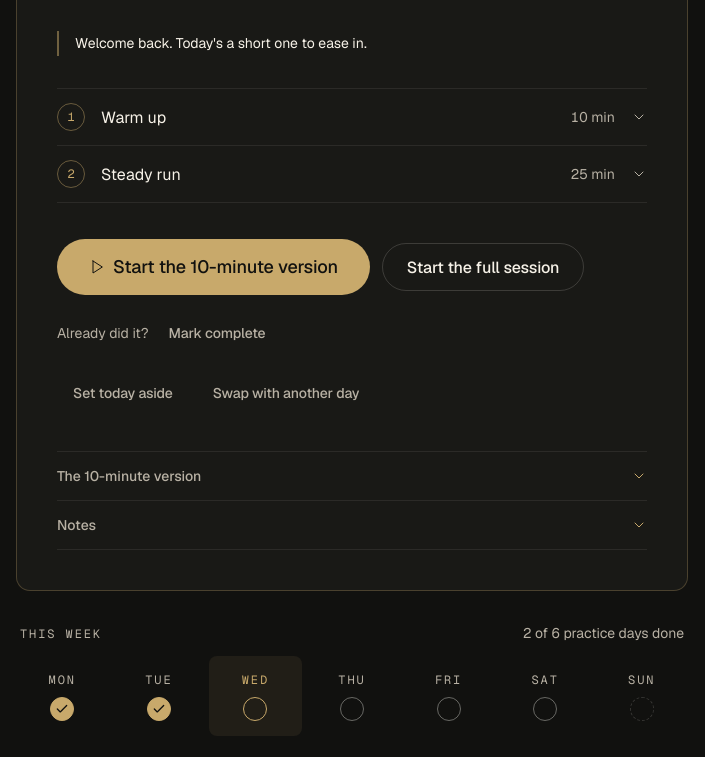
Scenario: Today › short on time and gentle return (missed sessions M3.2) › gentle return belongs to today only, not to another selected day
(page scrolled)
Expected: the button "Start the 10-minute version" is shown, left=57, top=240, right=370, bottom=296
Click the button "Tue" at (159,696), box left=113, top=656, right=205, bottom=736
(page scrolled)
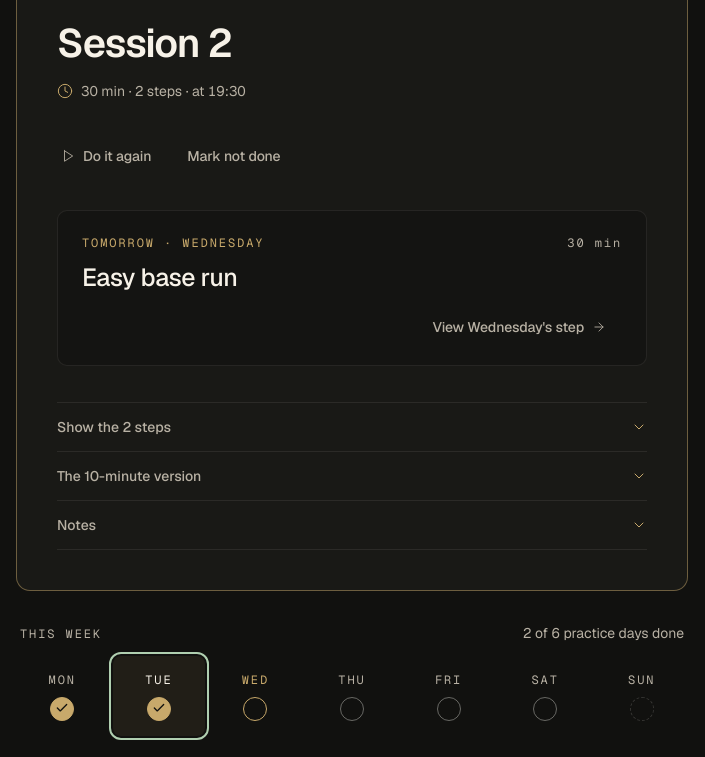
Now the text "Welcome back. Today's a short one to ease in." is gone
Now the button "Start the 10-minute version" is gone
Now the button "Start the full session" is gone
